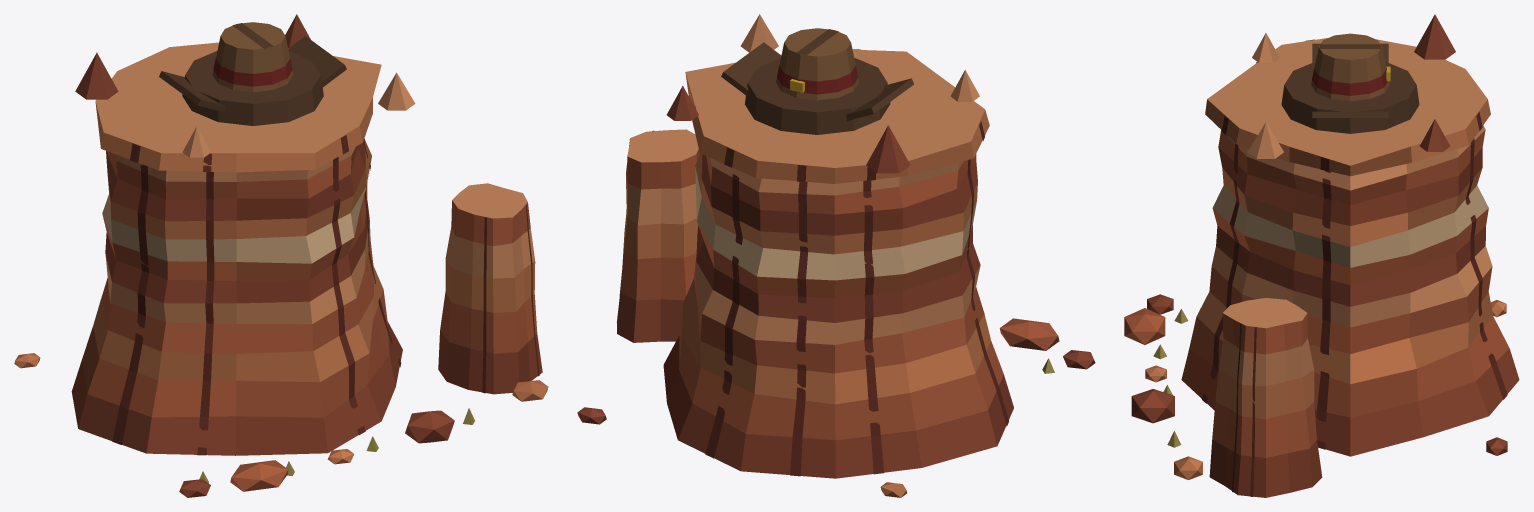
Rendered from Decor_WesternSaloon_Mesa.fbx.
3 views of the same model, side by side, from view 1: azimuth 30°, elevation 25°; view 2: azimuth 150°, elevation 25°; view 3: azimuth 270°, elevation 25° (orthographic). The views are drawn at different scales.
Parts seen in each view (by area): view 1: Mesa_Body; view 2: Mesa_Body; view 3: Mesa_Body.
Part boxes in pixels (left/top/right/bottom): Mesa_Body: left=14, top=14, right=548, bottom=497; Mesa_Body: left=577, top=14, right=1095, bottom=497; Mesa_Body: left=1124, top=14, right=1519, bottom=497.
Bounding box in the file's own units: 33 × 26.8 × 28.3.
